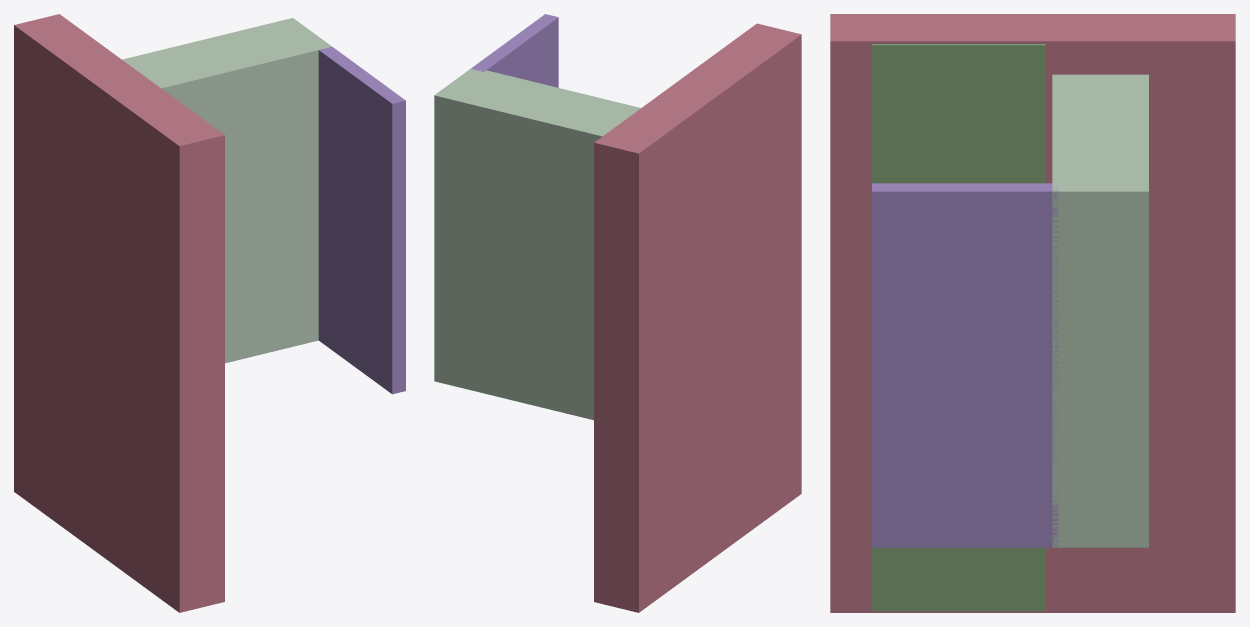
The model's file is 199525_pred.glb.
3 renders of one model, left to right at view 1: azimuth 30°, elevation 25°; view 2: azimuth 150°, elevation 25°; view 3: azimuth 270°, elevation 25°, orthographic. The views are drawn at different scales.
Parts seen in each view (by area): view 1: world; view 2: world; view 3: world.
Part boxes in pixels (x1,y1,x2,y2): world: [14, 14, 405, 612]; world: [434, 14, 801, 612]; world: [830, 14, 1235, 612].
Size of the model in its own units: 5.35 by 9.8 by 6.3.
